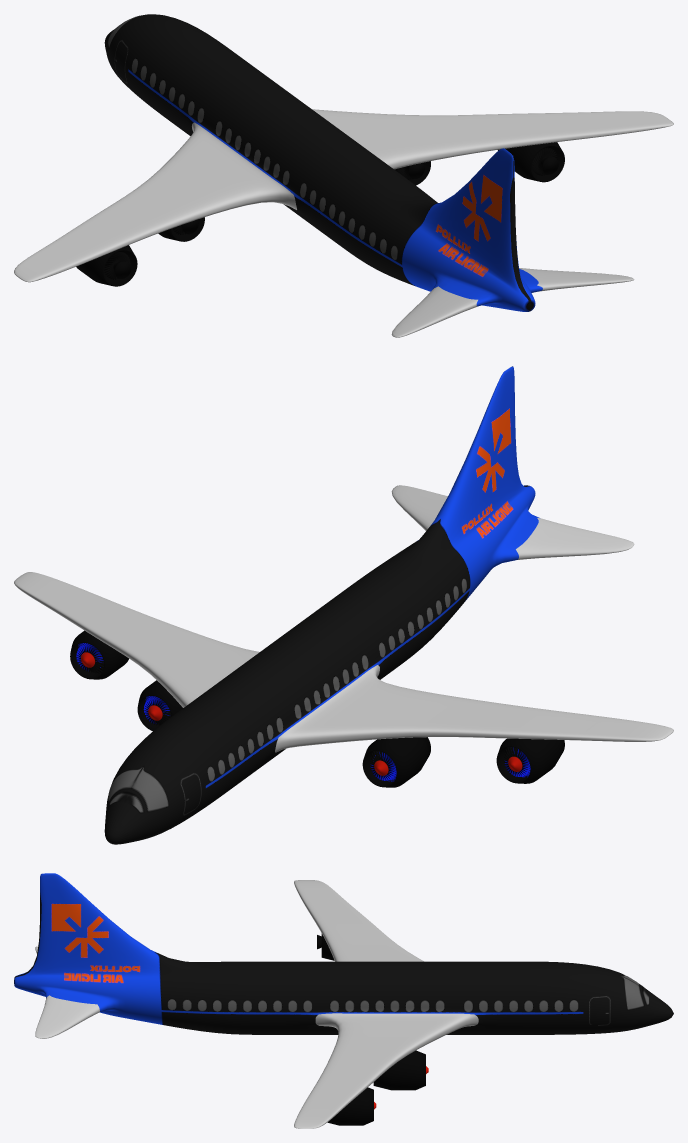
Rendered from Avion.obj.
3 views of the same model, one above another, from view 1: azimuth 30°, elevation 25°; view 2: azimuth 150°, elevation 25°; view 3: azimuth 270°, elevation 25° (orthographic). The views are drawn at different scales.
Visible parts, largest first — view 1: Avion.001, Réacteur.004, Réacteur.001, Réacteur, Réacteur.005; view 2: Avion.001, Réacteur, Réacteur.001, Réacteur.004, Réacteur.005; view 3: Avion.001, Réacteur.005, Réacteur.004.
Boxes of the visible parts, x1=… form: Avion.001: x1=14, y1=14, x2=673, y2=337; Réacteur.004: x1=498, y1=142, x2=564, y2=182; Réacteur.001: x1=76, y1=245, x2=137, y2=286; Réacteur: x1=158, y1=217, x2=204, y2=241; Réacteur.005: x1=394, y1=161, x2=430, y2=185; Avion.001: x1=14, y1=366, x2=673, y2=844; Réacteur: x1=362, y1=737, x2=430, y2=787; Réacteur.001: x1=496, y1=738, x2=564, y2=783; Réacteur.004: x1=70, y1=630, x2=128, y2=679; Réacteur.005: x1=137, y1=680, x2=182, y2=730; Avion.001: x1=14, y1=873, x2=673, y2=1128; Réacteur.005: x1=373, y1=1050, x2=428, y2=1090; Réacteur.004: x1=327, y1=1087, x2=376, y2=1125.
Bounding box in the file's own units: 5.18 × 1.67 × 5.81.
